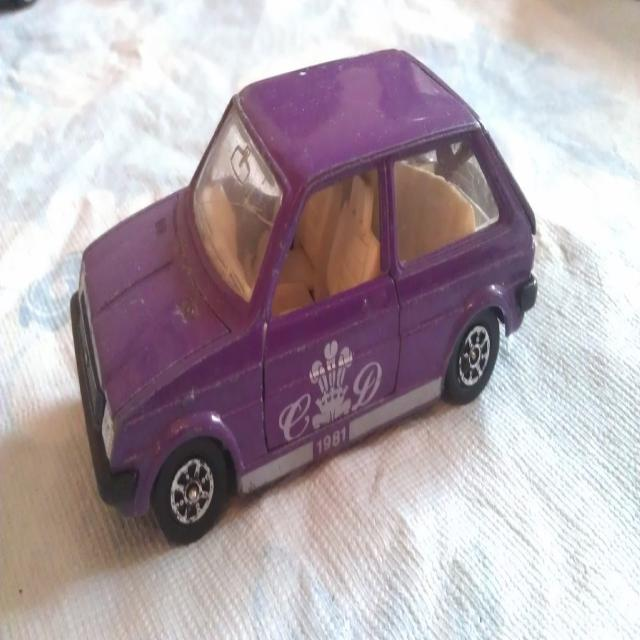car: (64, 44, 538, 547)
